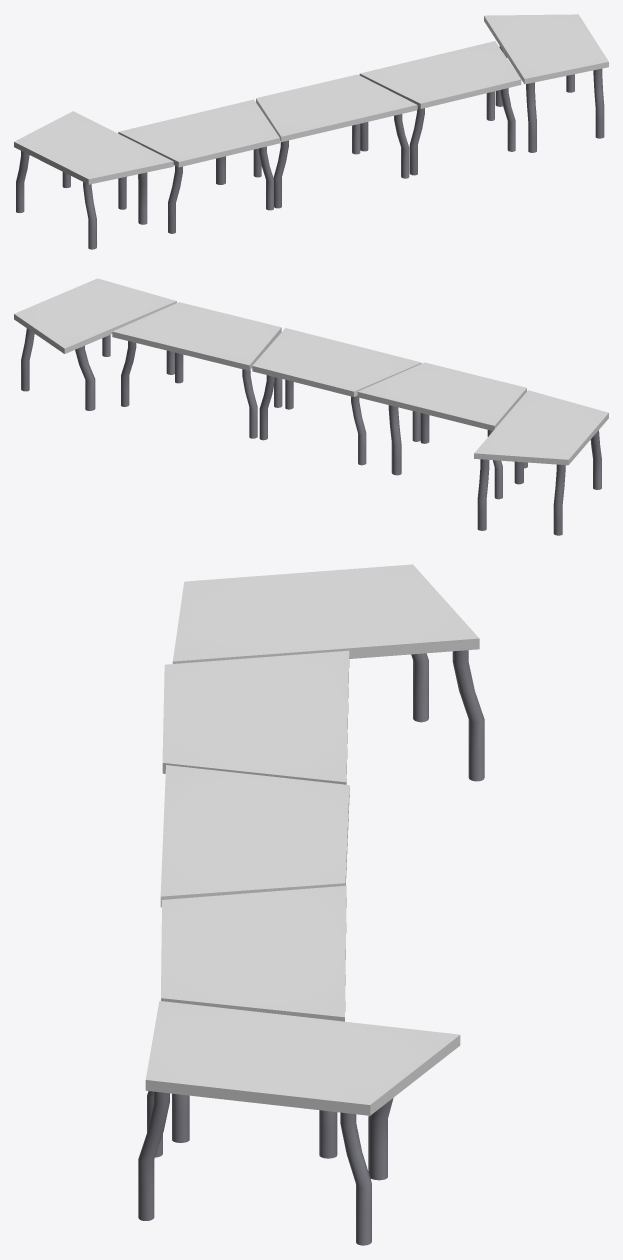
The model's file is Fila_Mesas2.obj.
3 views of the same model, one above another, from view 1: azimuth 30°, elevation 25°; view 2: azimuth 150°, elevation 25°; view 3: azimuth 270°, elevation 25° (orthographic). The views are drawn at different scales.
Parts seen in each view (by area): view 1: Box006, Box002, Box003, Box001, Box007, Tube027, Tube026, Tube022, Tube009, Tube007, Tube006, Tube001 (+4 smaller); view 2: Box003, Box001, Box006, Box007, Box002, Tube016, Tube023, Tube024, Tube025, Tube010, Tube008, Tube011 (+4 smaller); view 3: Box007, Box006, Box003, Box002, Box001, Tube023, Tube028, Tube027, Tube025, Tube024, Tube011.
Boxes of the visible parts, box(x1,y1,x2,y2) form: Box006: box(14, 111, 173, 184); Box002: box(256, 74, 417, 141); Box003: box(359, 41, 521, 108); Box001: box(118, 99, 279, 167); Box007: box(484, 14, 608, 84); Tube027: box(593, 68, 604, 138); Tube026: box(526, 82, 536, 152); Tube022: box(83, 182, 96, 249); Tube009: box(409, 108, 424, 175); Tube007: box(273, 140, 288, 208); Tube006: box(394, 114, 409, 178); Tube001: box(168, 166, 182, 233); Box003: box(112, 302, 281, 370); Box001: box(357, 362, 526, 430); Box006: box(474, 390, 608, 465); Box007: box(14, 278, 176, 353); Box002: box(252, 328, 421, 396); Tube016: box(388, 405, 401, 475); Tube023: box(477, 459, 489, 530); Tube024: box(553, 464, 565, 535); Tube025: box(75, 345, 95, 410); Tube010: box(242, 369, 257, 438); Tube008: box(351, 395, 366, 465); Tube011: box(121, 341, 136, 406); Box007: box(145, 1001, 460, 1115); Box006: box(172, 564, 479, 663); Box003: box(161, 885, 346, 1021); Box002: box(160, 765, 349, 907); Box001: box(162, 650, 349, 784); Tube023: box(452, 650, 484, 781); Tube028: box(340, 1112, 371, 1245); Tube027: box(138, 1091, 169, 1220); Tube025: box(368, 1098, 393, 1180); Tube024: box(411, 653, 428, 722); Tube011: box(319, 1110, 337, 1158).
Size of the model in its own units: 107 by 13.46 by 28.89.
Materials: 2 (2 with a texture image).
